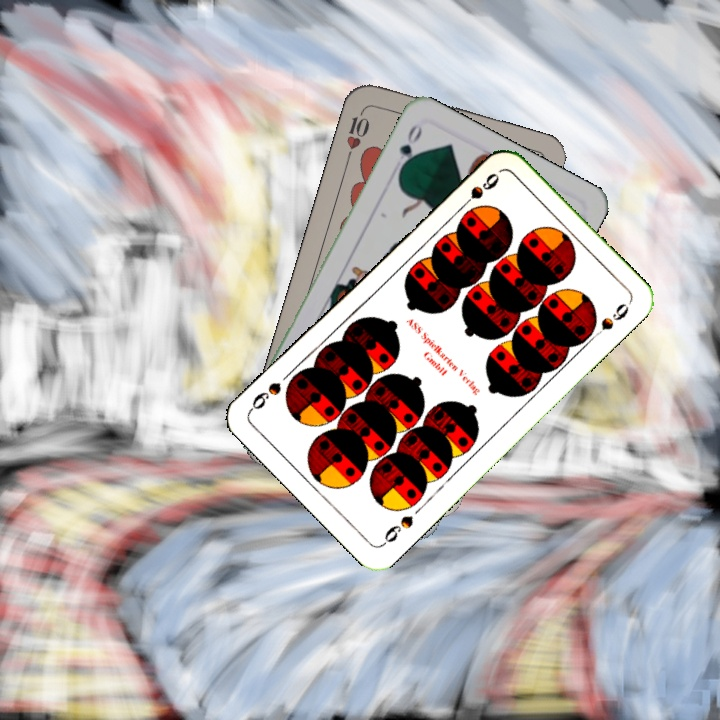GO: (395, 119, 425, 176)
H10: (342, 104, 372, 162)
S9: (455, 168, 502, 213), (378, 511, 416, 549)
